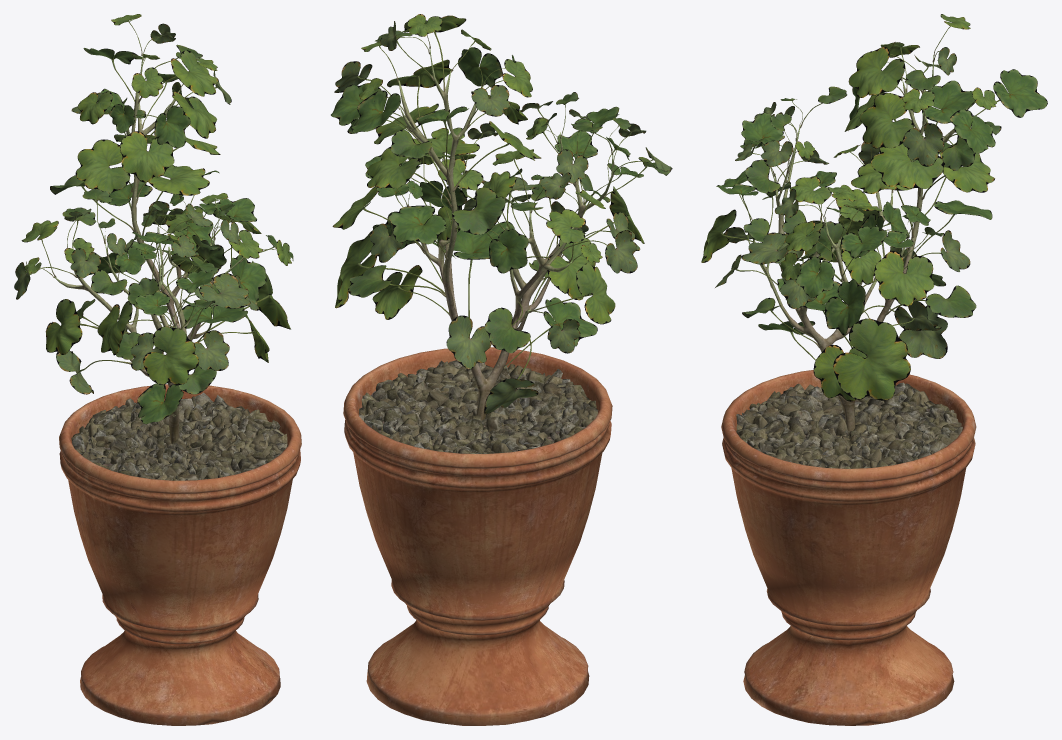
The model's file is potted_plant_01_2k.gltf.
3 views of the same model, side by side, from view 1: azimuth 30°, elevation 25°; view 2: azimuth 150°, elevation 25°; view 3: azimuth 270°, elevation 25° (orthographic). The views are drawn at different scales.
Parts seen in each view (by area): view 1: potted_plant_01_pot, potted_plant_01_leaves, potted_plant_01_pebbles, potted_plant_01_stem; view 2: potted_plant_01_pot, potted_plant_01_leaves, potted_plant_01_pebbles, potted_plant_01_stem; view 3: potted_plant_01_pot, potted_plant_01_leaves, potted_plant_01_pebbles, potted_plant_01_stem.
Boxes of the visible parts, x1,y1,x2,y2 form: potted_plant_01_pot: [59, 384, 301, 725]; potted_plant_01_leaves: [14, 14, 293, 424]; potted_plant_01_pebbles: [71, 392, 287, 480]; potted_plant_01_stem: [54, 54, 244, 443]; potted_plant_01_pot: [343, 347, 612, 725]; potted_plant_01_leaves: [331, 14, 672, 414]; potted_plant_01_pebbles: [359, 360, 597, 453]; potted_plant_01_stem: [398, 48, 613, 420]; potted_plant_01_pot: [721, 370, 976, 725]; potted_plant_01_leaves: [701, 14, 1047, 401]; potted_plant_01_pebbles: [736, 382, 962, 468]; potted_plant_01_stem: [752, 55, 967, 431].
Bounding box in the file's own units: 0.5874 × 1.34 × 0.6336.
Materials: 2 (2 with a texture image).
